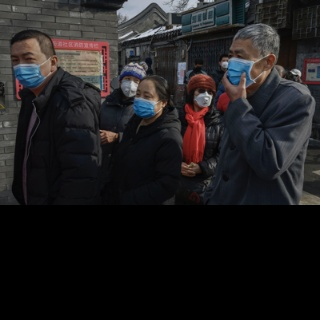with_mask: (228, 46, 264, 89), (11, 48, 48, 88), (132, 88, 159, 119), (192, 87, 212, 108), (120, 76, 140, 96), (221, 60, 230, 69), (195, 65, 203, 72)
